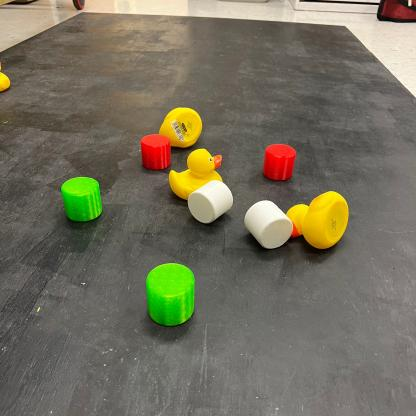duck: (286, 190, 350, 250), (168, 148, 223, 201), (158, 107, 203, 148), (0, 59, 11, 94)
green cylinder: (146, 262, 195, 328), (60, 176, 103, 223)
red cylinder: (262, 143, 297, 182), (140, 134, 172, 171)
white cylinder: (243, 199, 294, 250), (187, 180, 234, 224)
